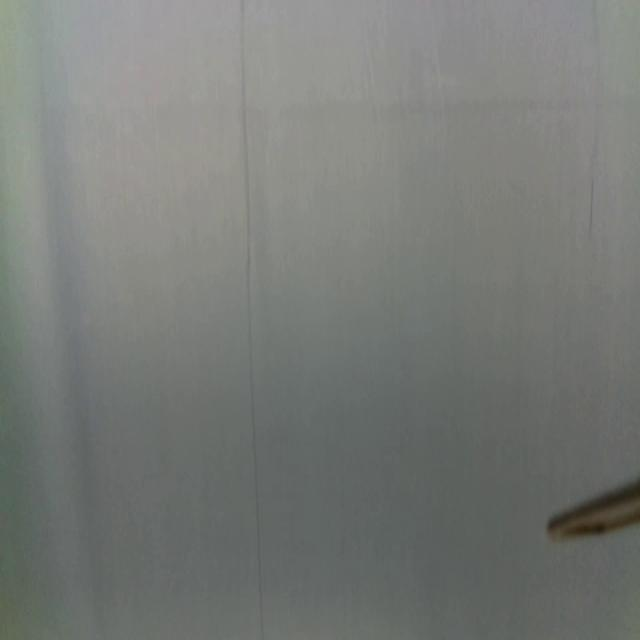crease: (238, 1, 266, 636), (586, 173, 598, 236)
